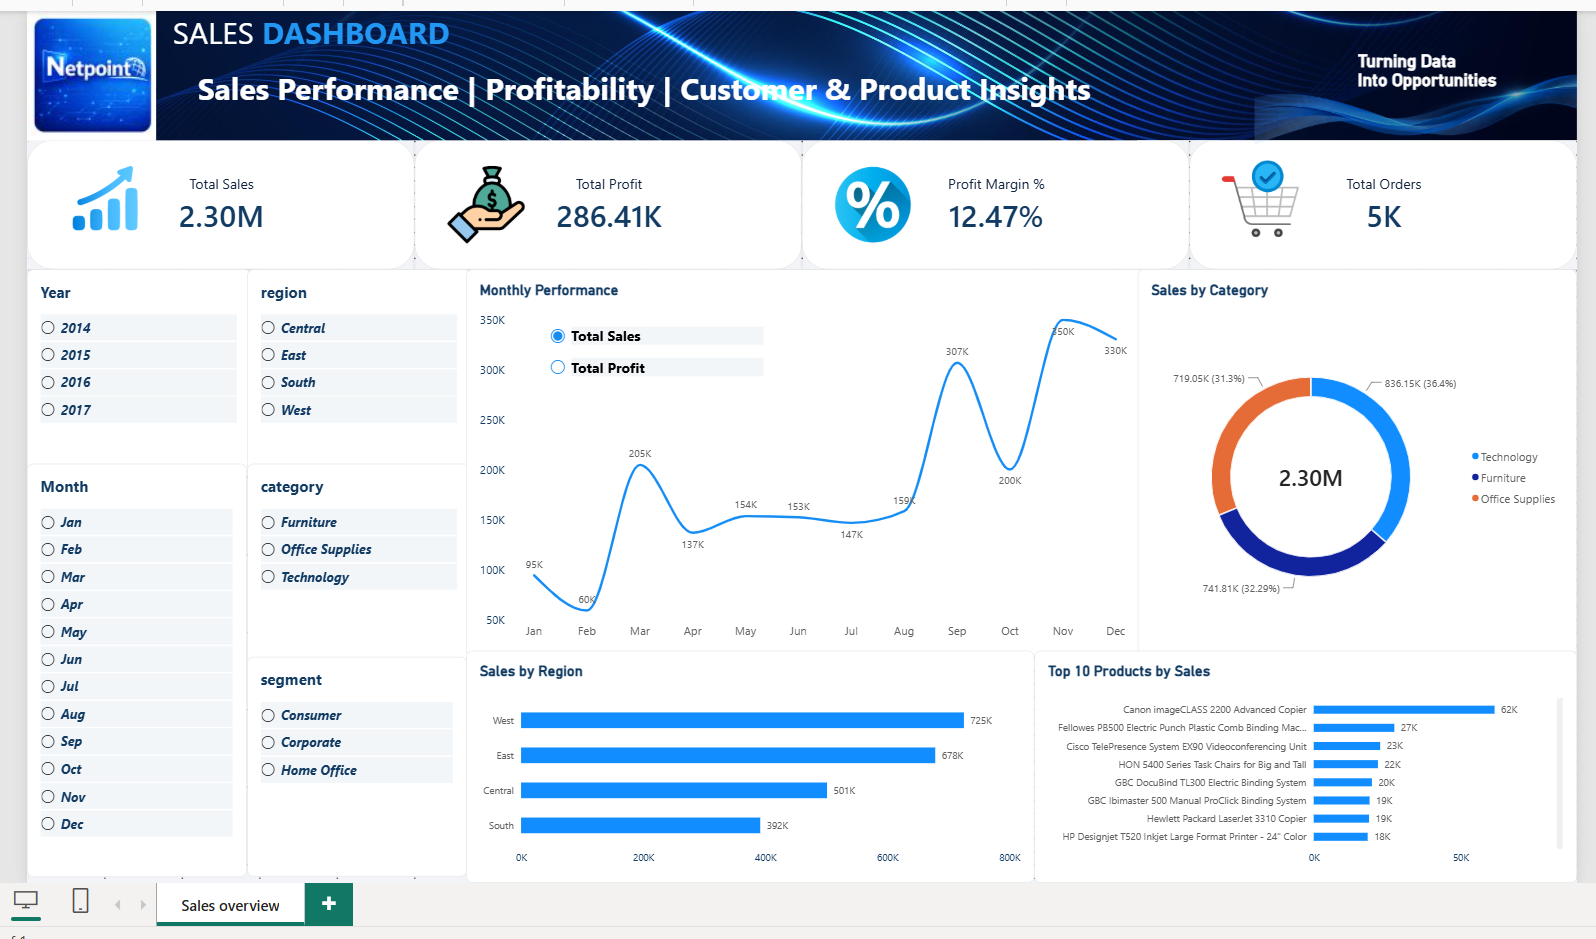

The page's visual inventory and layout, read from the dashboard file:
{"tool":"powerbi","page":{"name":"Sales overview","canvas":[1920,1080],"ordinal":0},"visuals":[{"type":"cardVisual","fields":{"Data":["dim_customer.Total Profit"]},"box":[480,160,480,160],"z":0},{"type":"cardVisual","fields":{"Data":["dim_customer.Total Sales"]},"box":[0,160,480,160],"z":1000},{"type":"cardVisual","fields":{"Data":["dim_customer.Total Orders"]},"box":[1440,160,480,160],"z":2000},{"type":"cardVisual","fields":{"Data":["dim_customer.Profit Margin %"]},"box":[960,160,480,160],"z":3000},{"type":"listSlicer","fields":{"Values":["dim_date.Year"]},"box":[0,320,277.1,251.4],"z":4000},{"type":"listSlicer","fields":{"Values":["dim_date.Month"]},"box":[0,560,272,512],"z":5000},{"type":"listSlicer","fields":{"Values":["dim_location.region"]},"box":[272,320,277.1,252.9],"z":6000},{"type":"listSlicer","fields":{"Values":["dim_product.category"]},"box":[272,560,277,251],"z":7000},{"type":"listSlicer","fields":{"Values":["dim_customer.segment"]},"box":[272,800,272,272],"z":8000},{"type":"lineChart","title":"Monthly Performance","fields":{"Category":["dim_date.Month"],"Y":["dim_customer.Total Sales"]},"box":[544,320,848,480],"z":9000},{"type":"donutChart","title":"Sales by Category","fields":{"Category":["dim_product.category"],"Y":["dim_customer.Total Sales"]},"box":[1376,320,544,480],"z":10000},{"type":"clusteredBarChart","title":"Sales by Region","fields":{"Category":["dim_location.region"],"Y":["dim_customer.Total Sales"]},"box":[544,792,704,288],"z":11000},{"type":"clusteredBarChart","title":"Top 10 Products by Sales","fields":{"Category":["dim_product.product_name"],"Y":["dim_customer.Total Sales"]},"box":[1248,792,672,288],"z":12000},{"type":"image","box":[0,0,160,160],"z":13000},{"type":"image","box":[16,192,160,80],"z":14000},{"type":"image","box":[432,192,272,96],"z":15000},{"type":"image","box":[1376,176,304,112],"z":16000},{"type":"image","box":[896,192,304,96],"z":17000},{"type":"image","box":[160,0,1760,160],"z":18000},{"type":"image","box":[1520,32,400,144],"z":19000},{"type":"textbox","box":[1648,48,272,96],"z":20000},{"type":"textbox","box":[160,0,1376,160],"z":21000},{"type":"slicer","fields":{"Values":["Sales Profit Parameter.Sales Profit Parameter"]},"box":[624,368,304,144],"z":22000}]}

Visuals, with their boxes on the page's 1920x1080 design canvas (x1, y1, x2, y2). These are canvas units, not pixel positions in the 1596x939 screenshot, which may show the page scaled, cropped or inside an application window:
cardVisual - dim_customer.Total Profit: bbox=(480, 160, 960, 320)
cardVisual - dim_customer.Total Sales: bbox=(0, 160, 480, 320)
cardVisual - dim_customer.Total Orders: bbox=(1440, 160, 1920, 320)
cardVisual - dim_customer.Profit Margin %: bbox=(960, 160, 1440, 320)
listSlicer - dim_date.Year: bbox=(0, 320, 277, 571)
listSlicer - dim_date.Month: bbox=(0, 560, 272, 1072)
listSlicer - dim_location.region: bbox=(272, 320, 549, 573)
listSlicer - dim_product.category: bbox=(272, 560, 549, 811)
listSlicer - dim_customer.segment: bbox=(272, 800, 544, 1072)
"Monthly Performance" lineChart: bbox=(544, 320, 1392, 800)
"Sales by Category" donutChart: bbox=(1376, 320, 1920, 800)
"Sales by Region" clusteredBarChart: bbox=(544, 792, 1248, 1080)
"Top 10 Products by Sales" clusteredBarChart: bbox=(1248, 792, 1920, 1080)
image: bbox=(0, 0, 160, 160)
image: bbox=(16, 192, 176, 272)
image: bbox=(432, 192, 704, 288)
image: bbox=(1376, 176, 1680, 288)
image: bbox=(896, 192, 1200, 288)
image: bbox=(160, 0, 1920, 160)
image: bbox=(1520, 32, 1920, 176)
textbox: bbox=(1648, 48, 1920, 144)
textbox: bbox=(160, 0, 1536, 160)
slicer - Sales Profit Parameter.Sales Profit Parameter: bbox=(624, 368, 928, 512)
